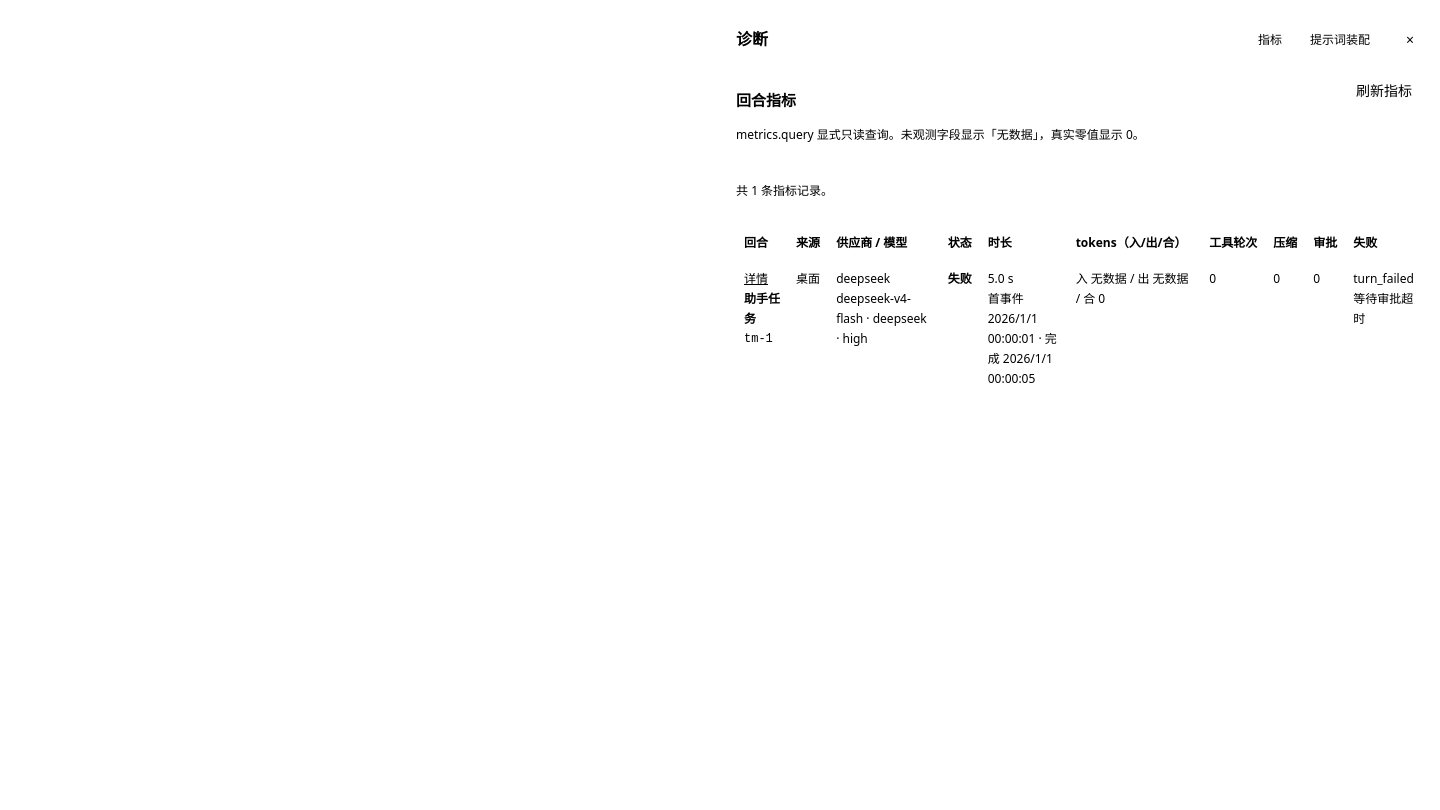
Test: DiagnosticsDrawer 诊断抽屉 › 失败回合在行内显示失败类型与原因，详情展开列出全部字段
Expected: the row with test id "diag-metric-tm-1" shows "助手任务", left=744, top=290, right=780, bottom=326
Expected: the row with test id "diag-metric-tm-1" shows "失败", left=948, top=270, right=972, bottom=286
Click the button "详情": {"x": 756, "y": 278} left=744, top=268, right=768, bottom=286
(page scrolled)
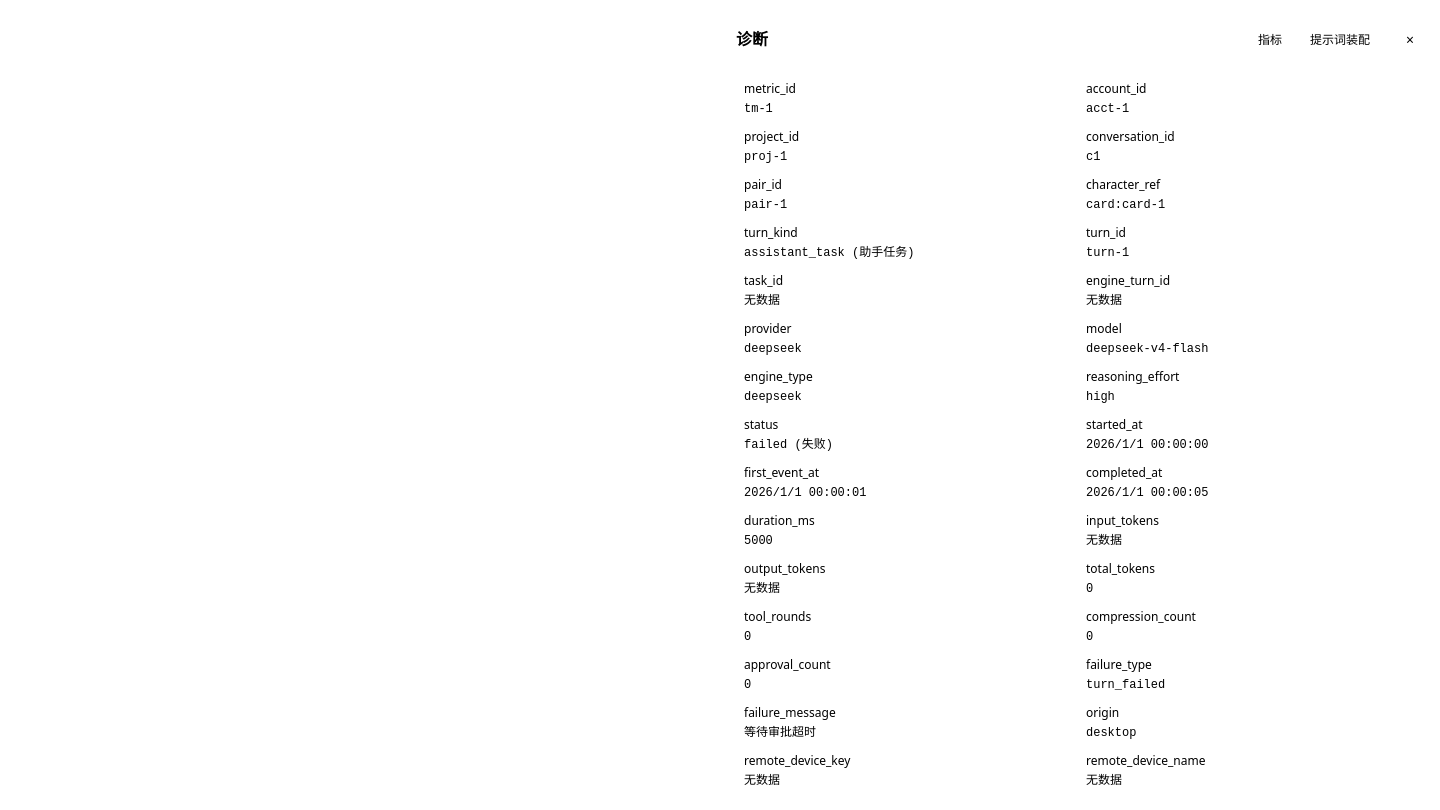
Expected: the row with test id "diag-metric-detail-tm-1" shows "acct-1", left=1086, top=102, right=1129, bottom=116
Expected: the row with test id "diag-metric-detail-tm-1" shows "card:card-1", left=1086, top=198, right=1165, bottom=212
